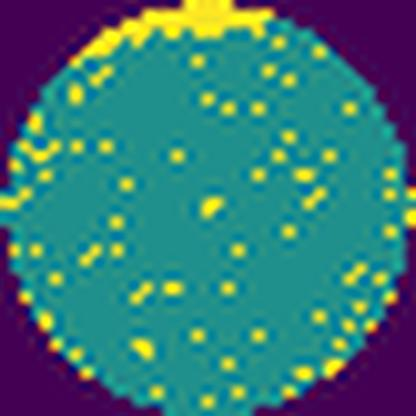Edge-Loc: (65, 0, 279, 66)
